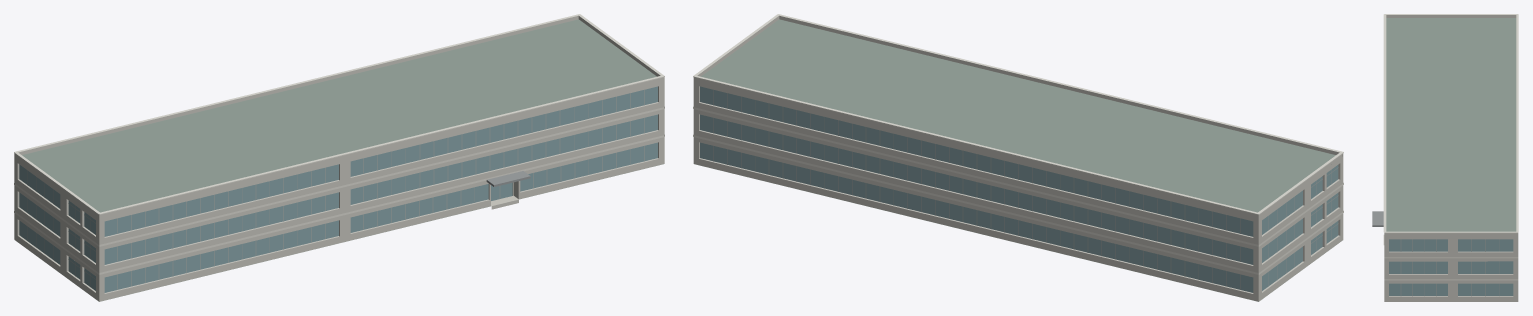
3 views of the same model, side by side, from view 1: azimuth 30°, elevation 25°; view 2: azimuth 150°, elevation 25°; view 3: azimuth 270°, elevation 25° (orthographic). The views are drawn at different scales.
Visible parts, largest first — view 1: east__roof, east__glass, east__wall, east__trim, east__parapet, east__frame; view 2: east__roof, east__glass, east__wall, east__trim, east__parapet, east__frame; view 3: east__roof, east__wall, east__glass, east__trim, east__parapet, east__frame, east__canopy.
Part boxes in pixels (x1,y1,x2,y2): east__roof: (19,19,663,301); east__glass: (19,86,657,292); east__wall: (14,80,664,301); east__trim: (14,14,664,274); east__parapet: (14,15,664,217); east__frame: (27,89,644,289); east__roof: (694,19,1339,301); east__glass: (700,86,1338,292); east__wall: (693,80,1343,301); east__trim: (693,14,1343,274); east__parapet: (693,15,1343,217); east__frame: (713,89,1338,289); east__roof: (1386,18,1516,231); east__wall: (1384,235,1518,301); east__glass: (1389,239,1513,295); east__trim: (1383,14,1518,280); east__parapet: (1384,15,1518,235); east__frame: (1400,239,1499,296); east__canopy: (1372,211,1383,226).
Bounding box in the file's own units: 73.98 × 11.35 × 20.94.
